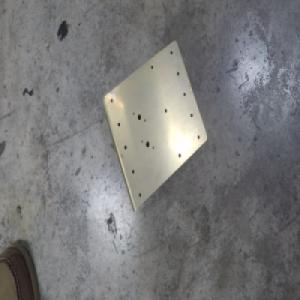MetalSheet: (99, 38, 209, 216)
